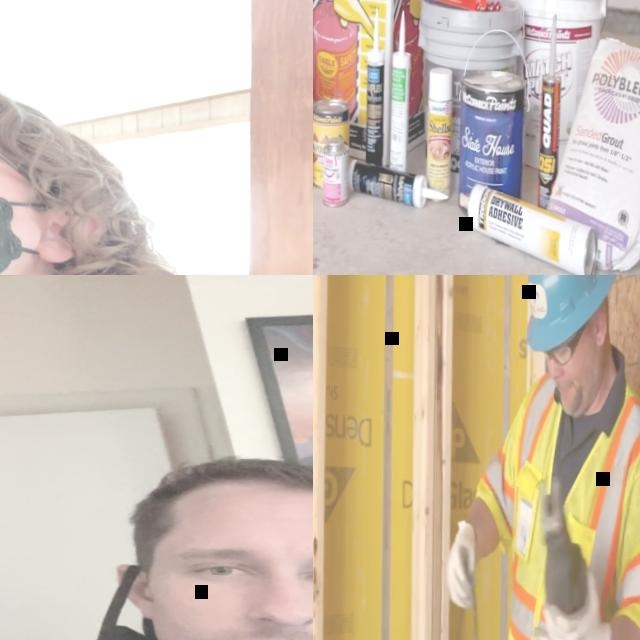Hardhat: (522, 275, 622, 352)
NO-Hardhat: (116, 456, 313, 528), (0, 71, 81, 153)
NO-Mask: (118, 589, 313, 640), (560, 374, 596, 414)
Person: (435, 275, 640, 640), (0, 68, 313, 275), (0, 448, 313, 640)
Safety Vest: (466, 364, 640, 640)
